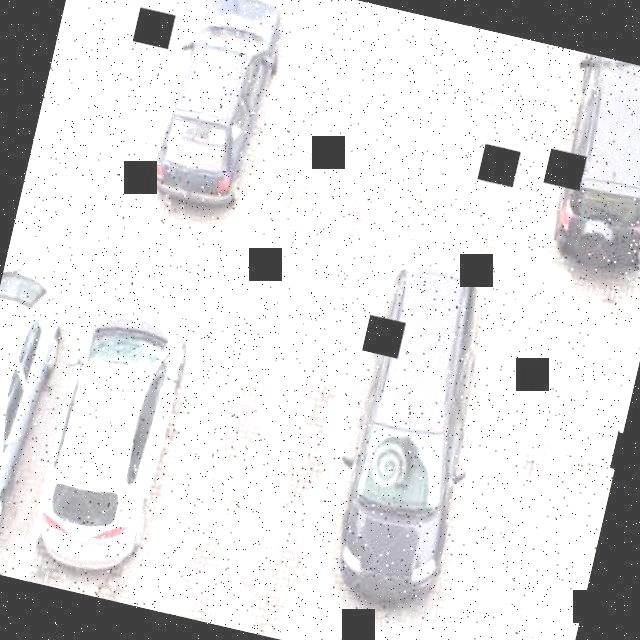car: (321, 259, 524, 632), (29, 280, 215, 598), (148, 0, 302, 219), (534, 52, 640, 290), (0, 261, 77, 573)
free: (167, 305, 377, 640), (244, 0, 432, 305), (442, 345, 635, 640), (10, 0, 198, 267), (387, 19, 556, 282)
